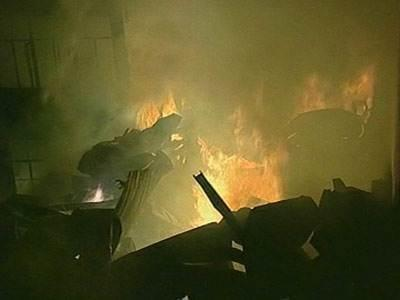fire: (128, 47, 375, 210)
